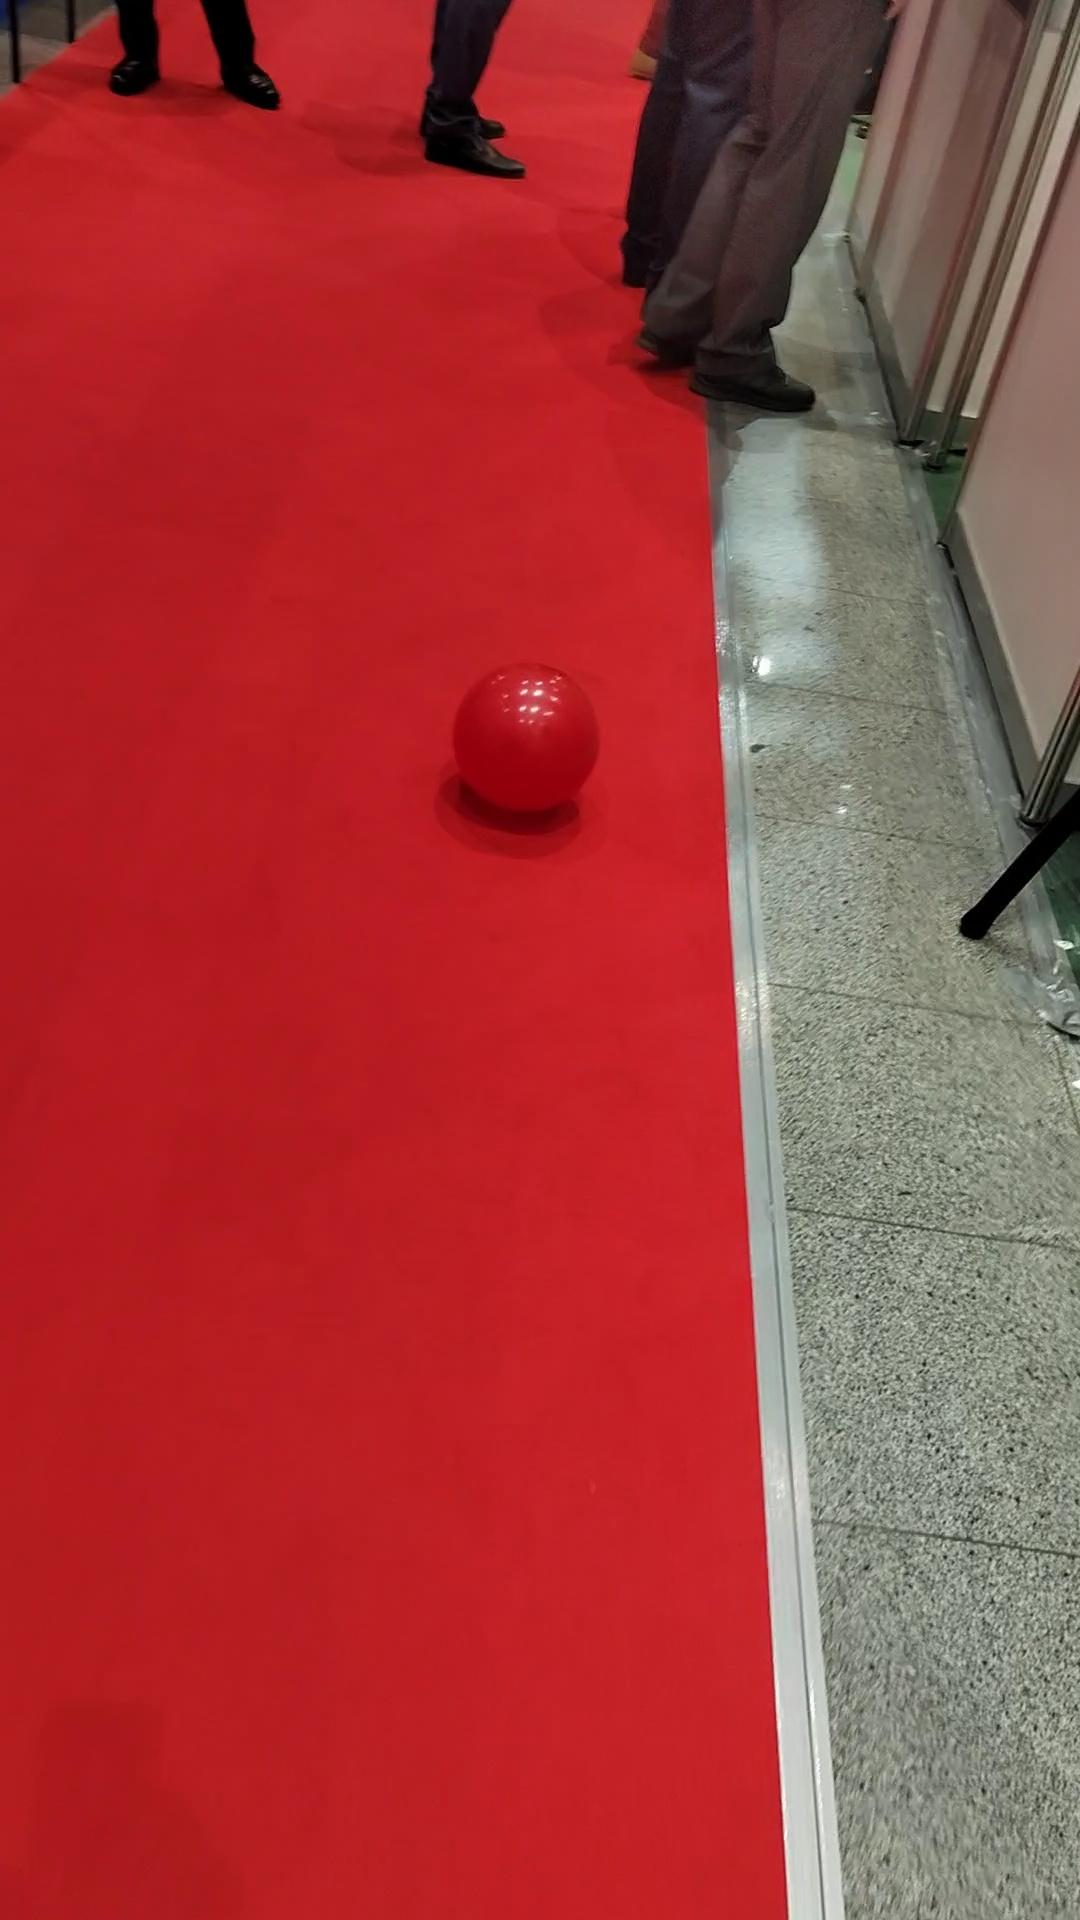red: (452, 663, 601, 815)
